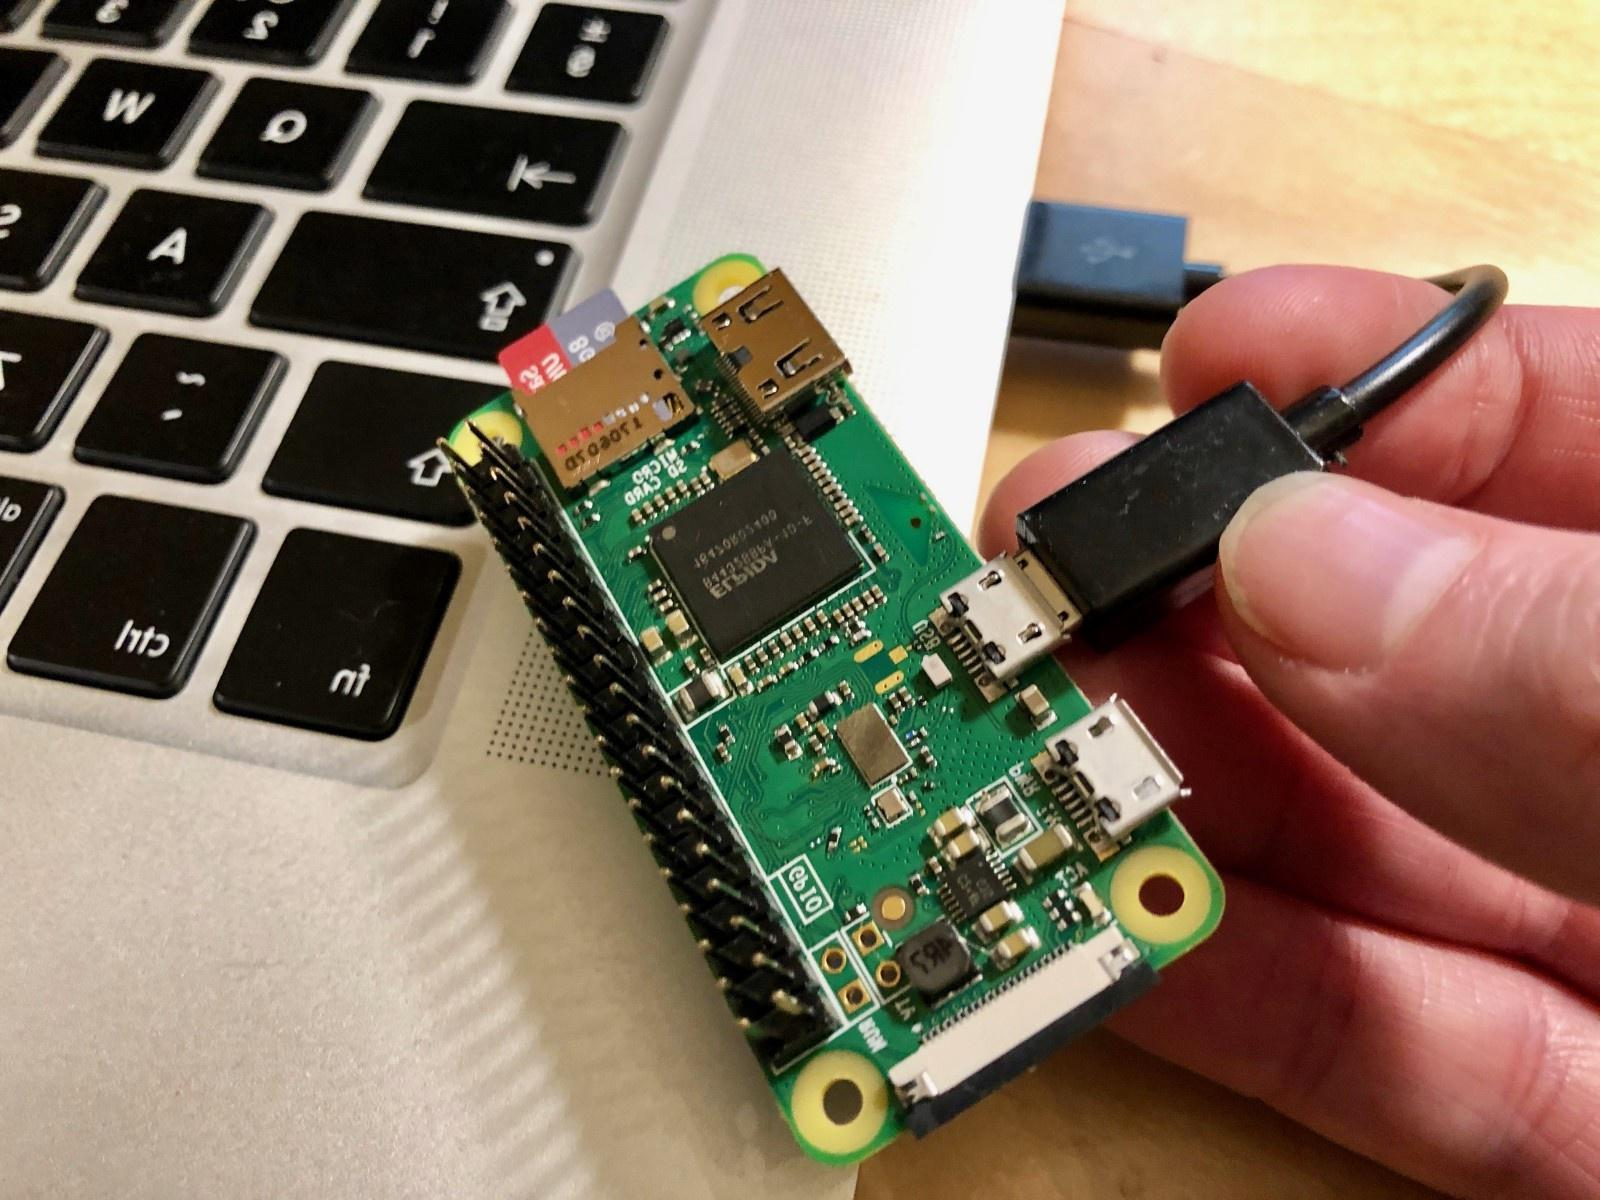bchi: (636, 444, 863, 647)
ethernet: (698, 263, 850, 437)
gpio: (442, 427, 820, 1053)
